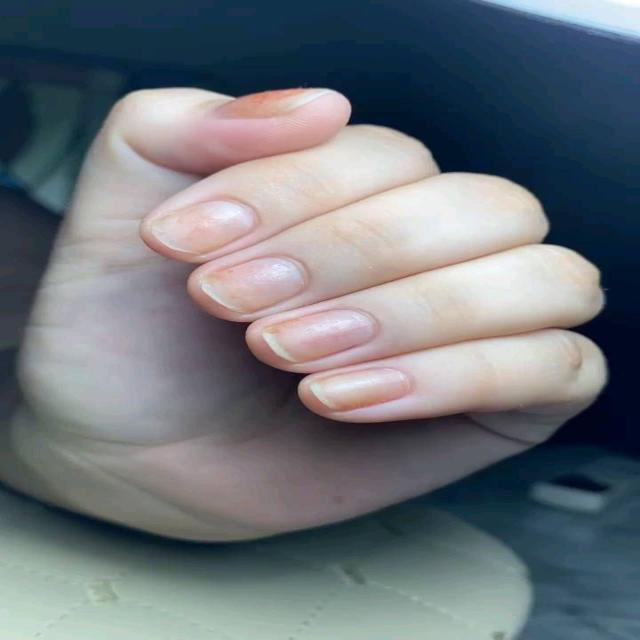Fingernail: (147, 200, 256, 256), (263, 309, 376, 362), (201, 257, 305, 313), (308, 367, 408, 411), (216, 89, 331, 118)
